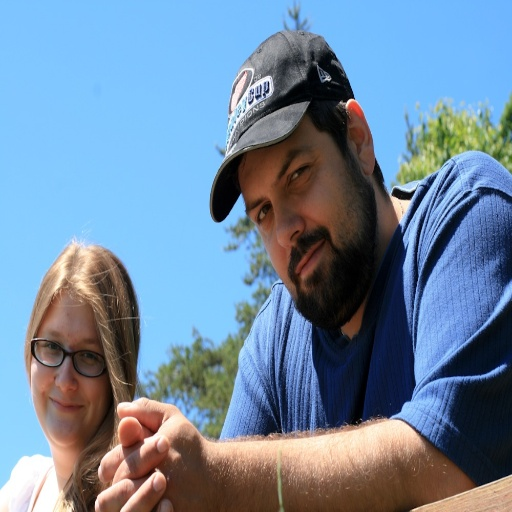hand: (110, 413, 175, 511)
